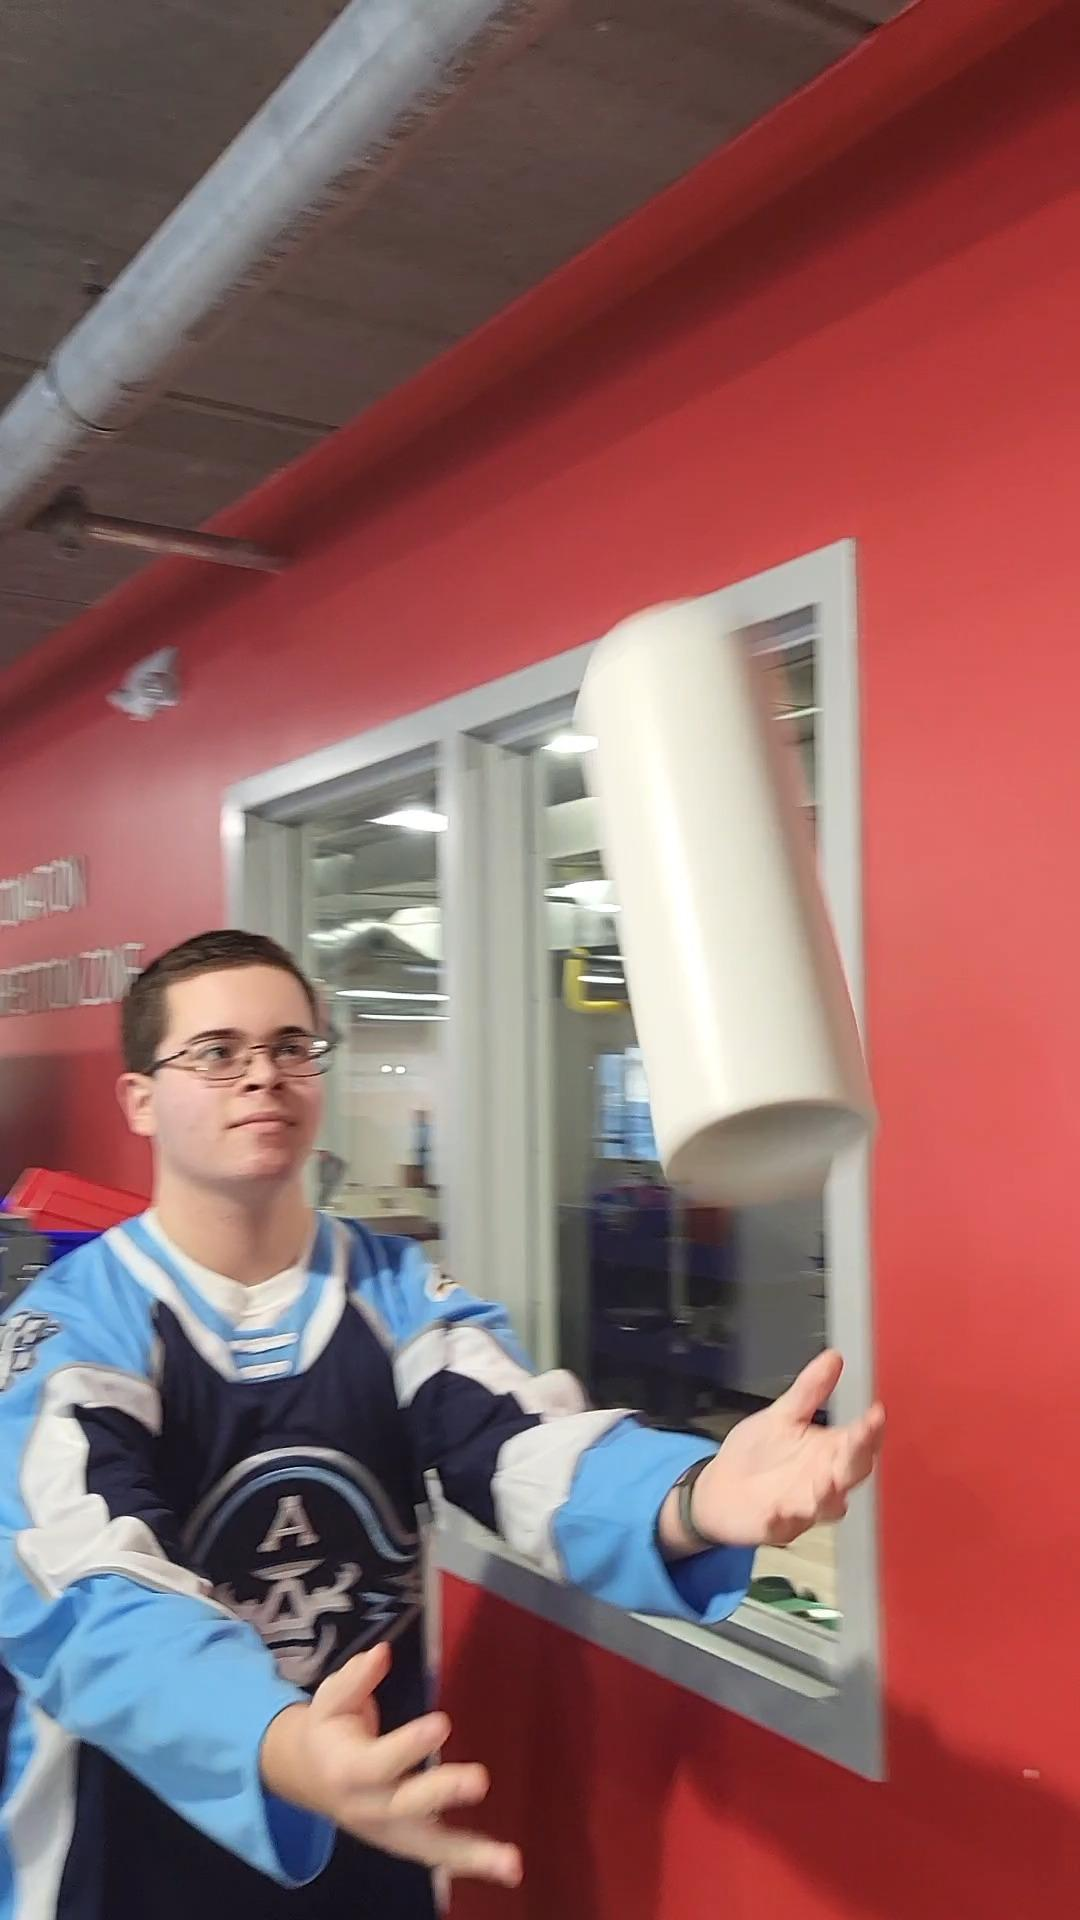coral: (570, 593, 880, 1204)
